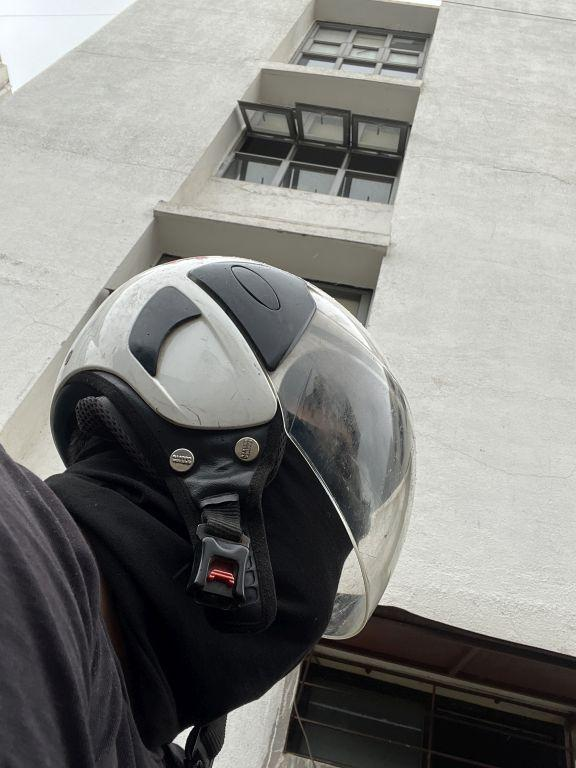helmet: (32, 227, 425, 671)
